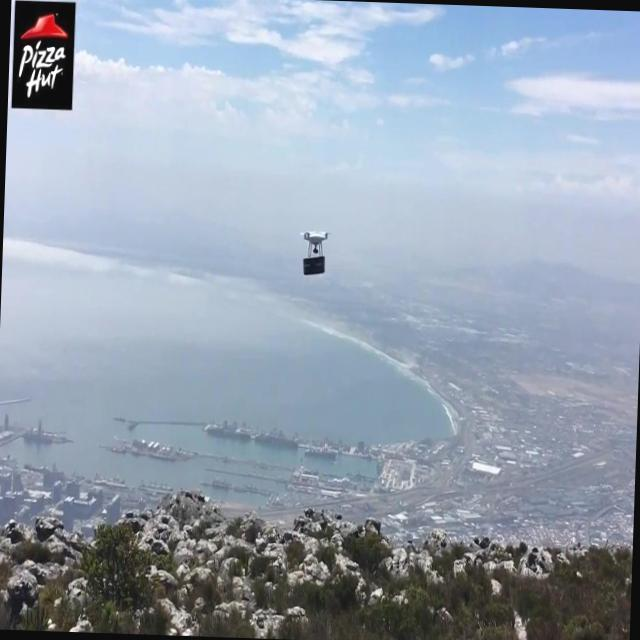drone: (298, 225, 330, 278)
